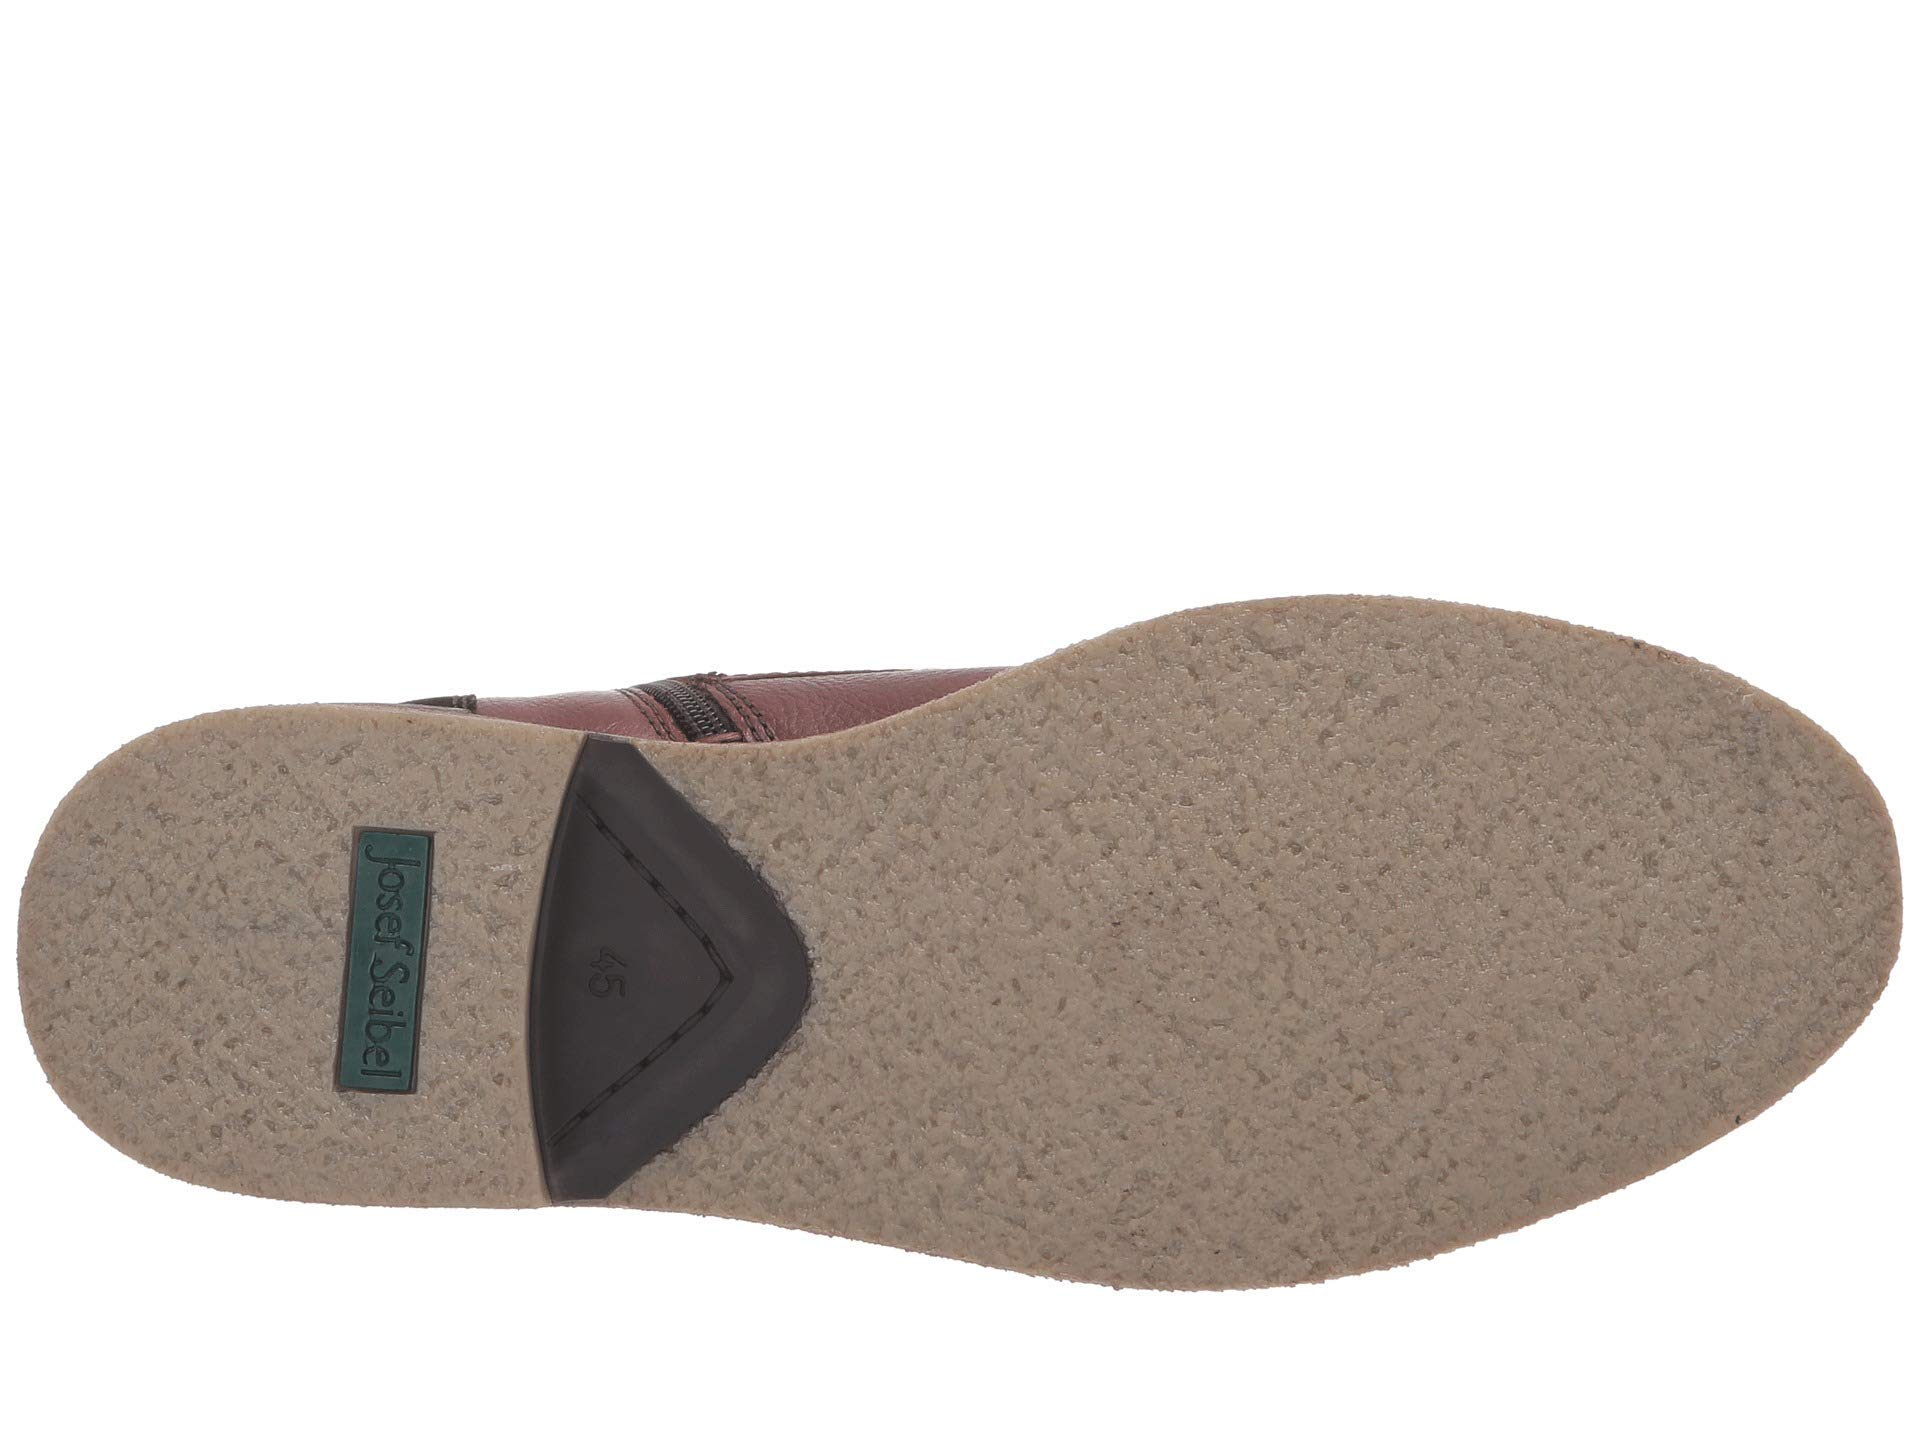chevron: (543, 806, 748, 1095)
circle: (314, 806, 452, 1125)
line: (543, 806, 748, 1095)
other: (990, 684, 1739, 1122)
quad: (314, 806, 452, 1125)
text: (543, 806, 748, 1095), (314, 806, 452, 1125)
